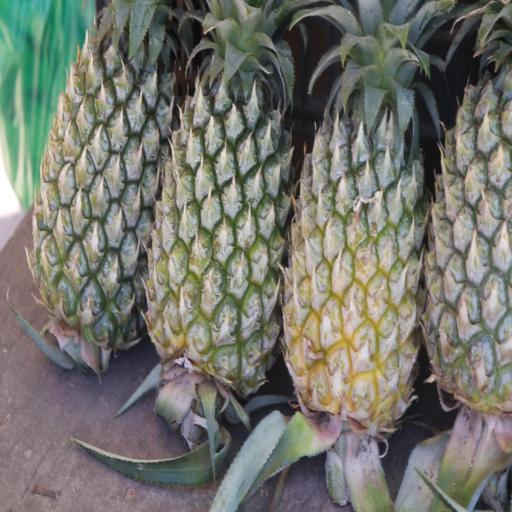------------------------------: (274, 0, 431, 451)
